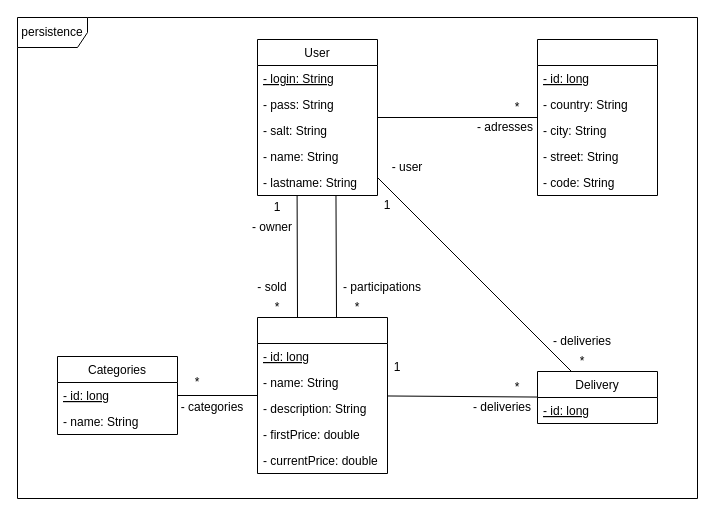
Some shapes in this 715 by 516 pixel diagram are drawn without their labels. The shapes that lost their labels are listed below. From the top down, each one's box as (x1, y1, x2, y2) in pixels, then its label:
(536, 38, 658, 196): Adress
(256, 316, 388, 474): Article
